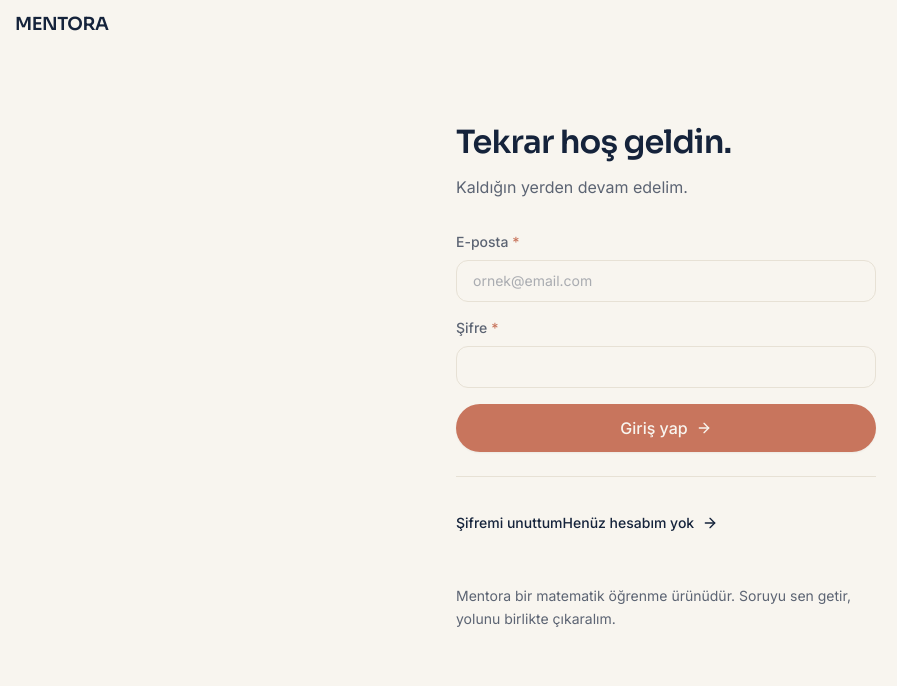
it: AuthScreen › shows a calm message when the network is unreachable
The image size is (897, 686).
Type "ayse@example.com" into the field labelled "E-posta*" at (666, 281), box [456,260,876,302]
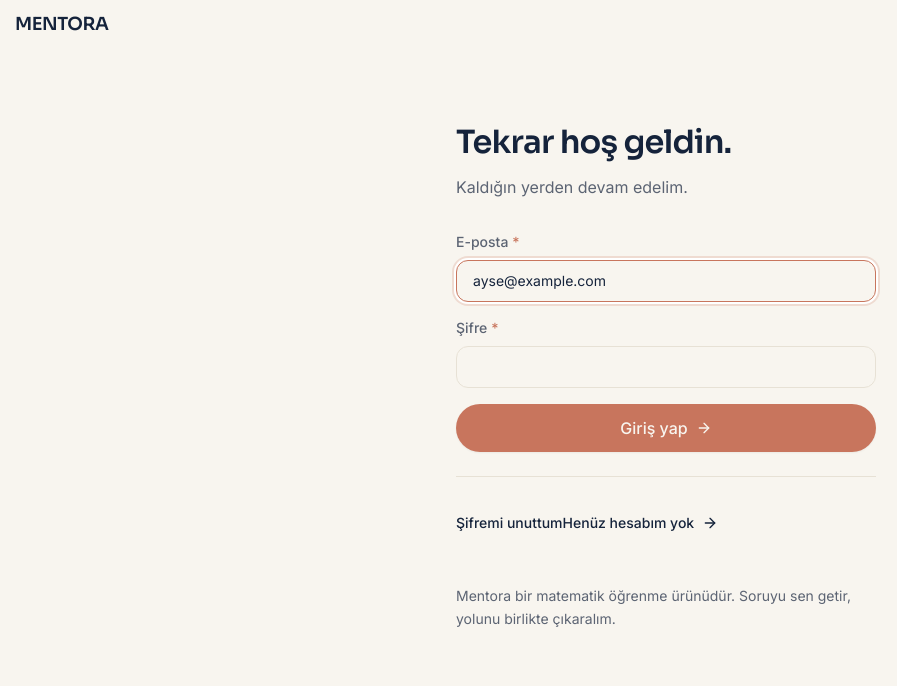
Type "Sifre!1234A" into the password field labelled "Şifre*" at (666, 367), box [456,346,876,388]
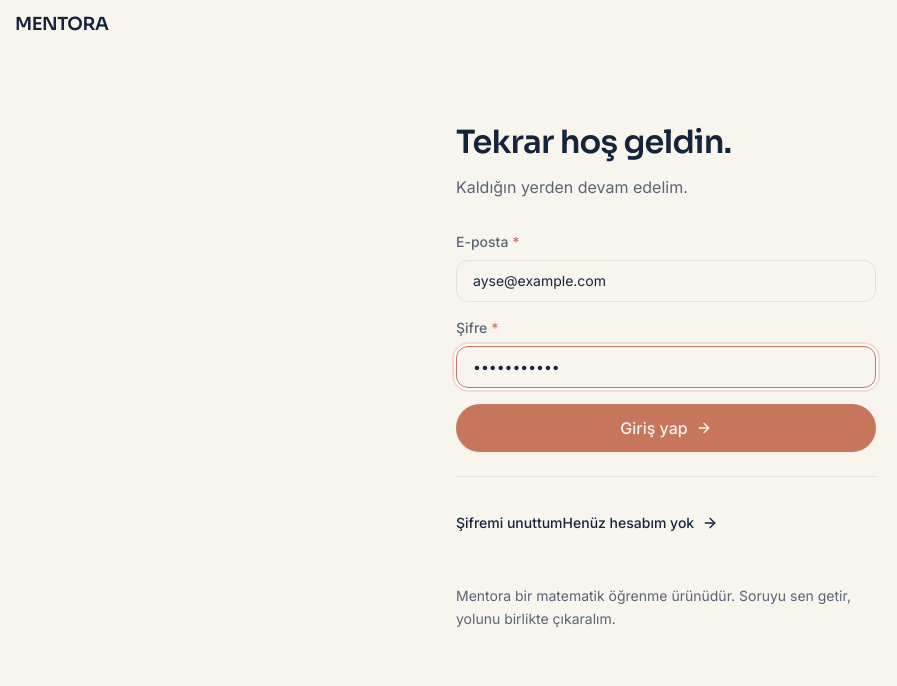
Click the button "Giriş yap" at (666, 428), box [456,404,876,452]
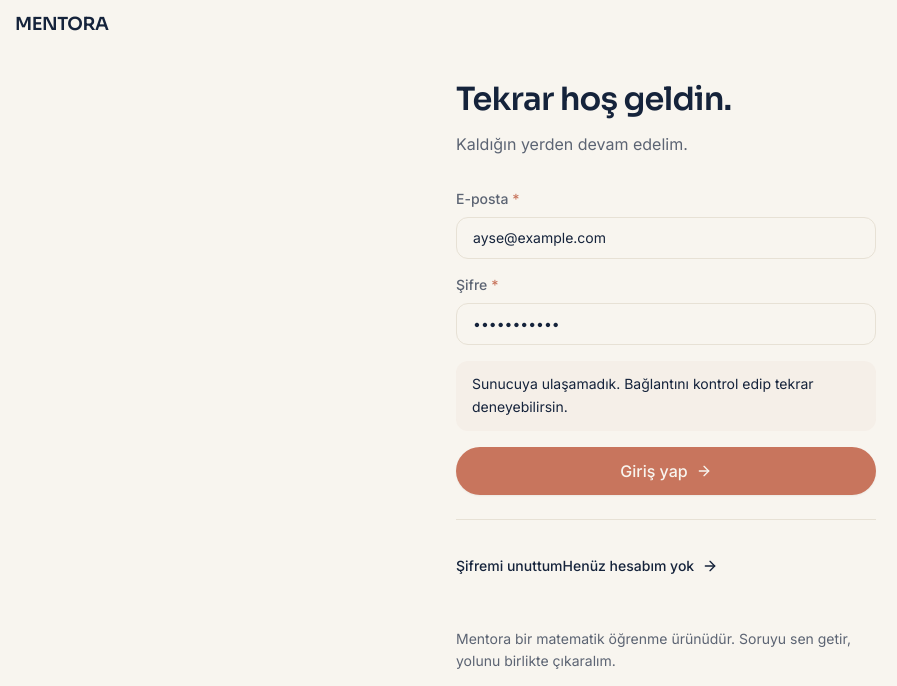
Now the message shows "Sunucuya ulaşamadık", box [472,375,814,415]
